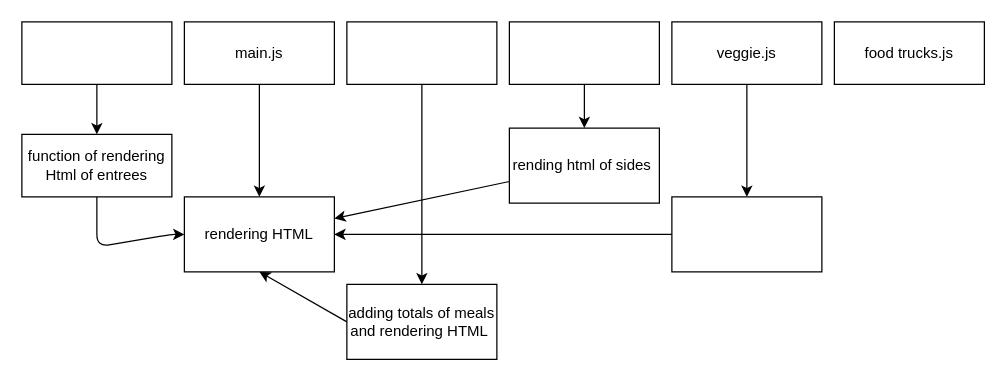
Some shapes in this 1006 by 381 pixel diagram are drawn without their labels. The centre of each missing label's shape, as x and y in pixels:
"entrees.js" belongs at [96,52].
"rendering Html of veggies" belongs at [746,234].
"sales.js" belongs at [421,52].
"sides.js" belongs at [583,52].
